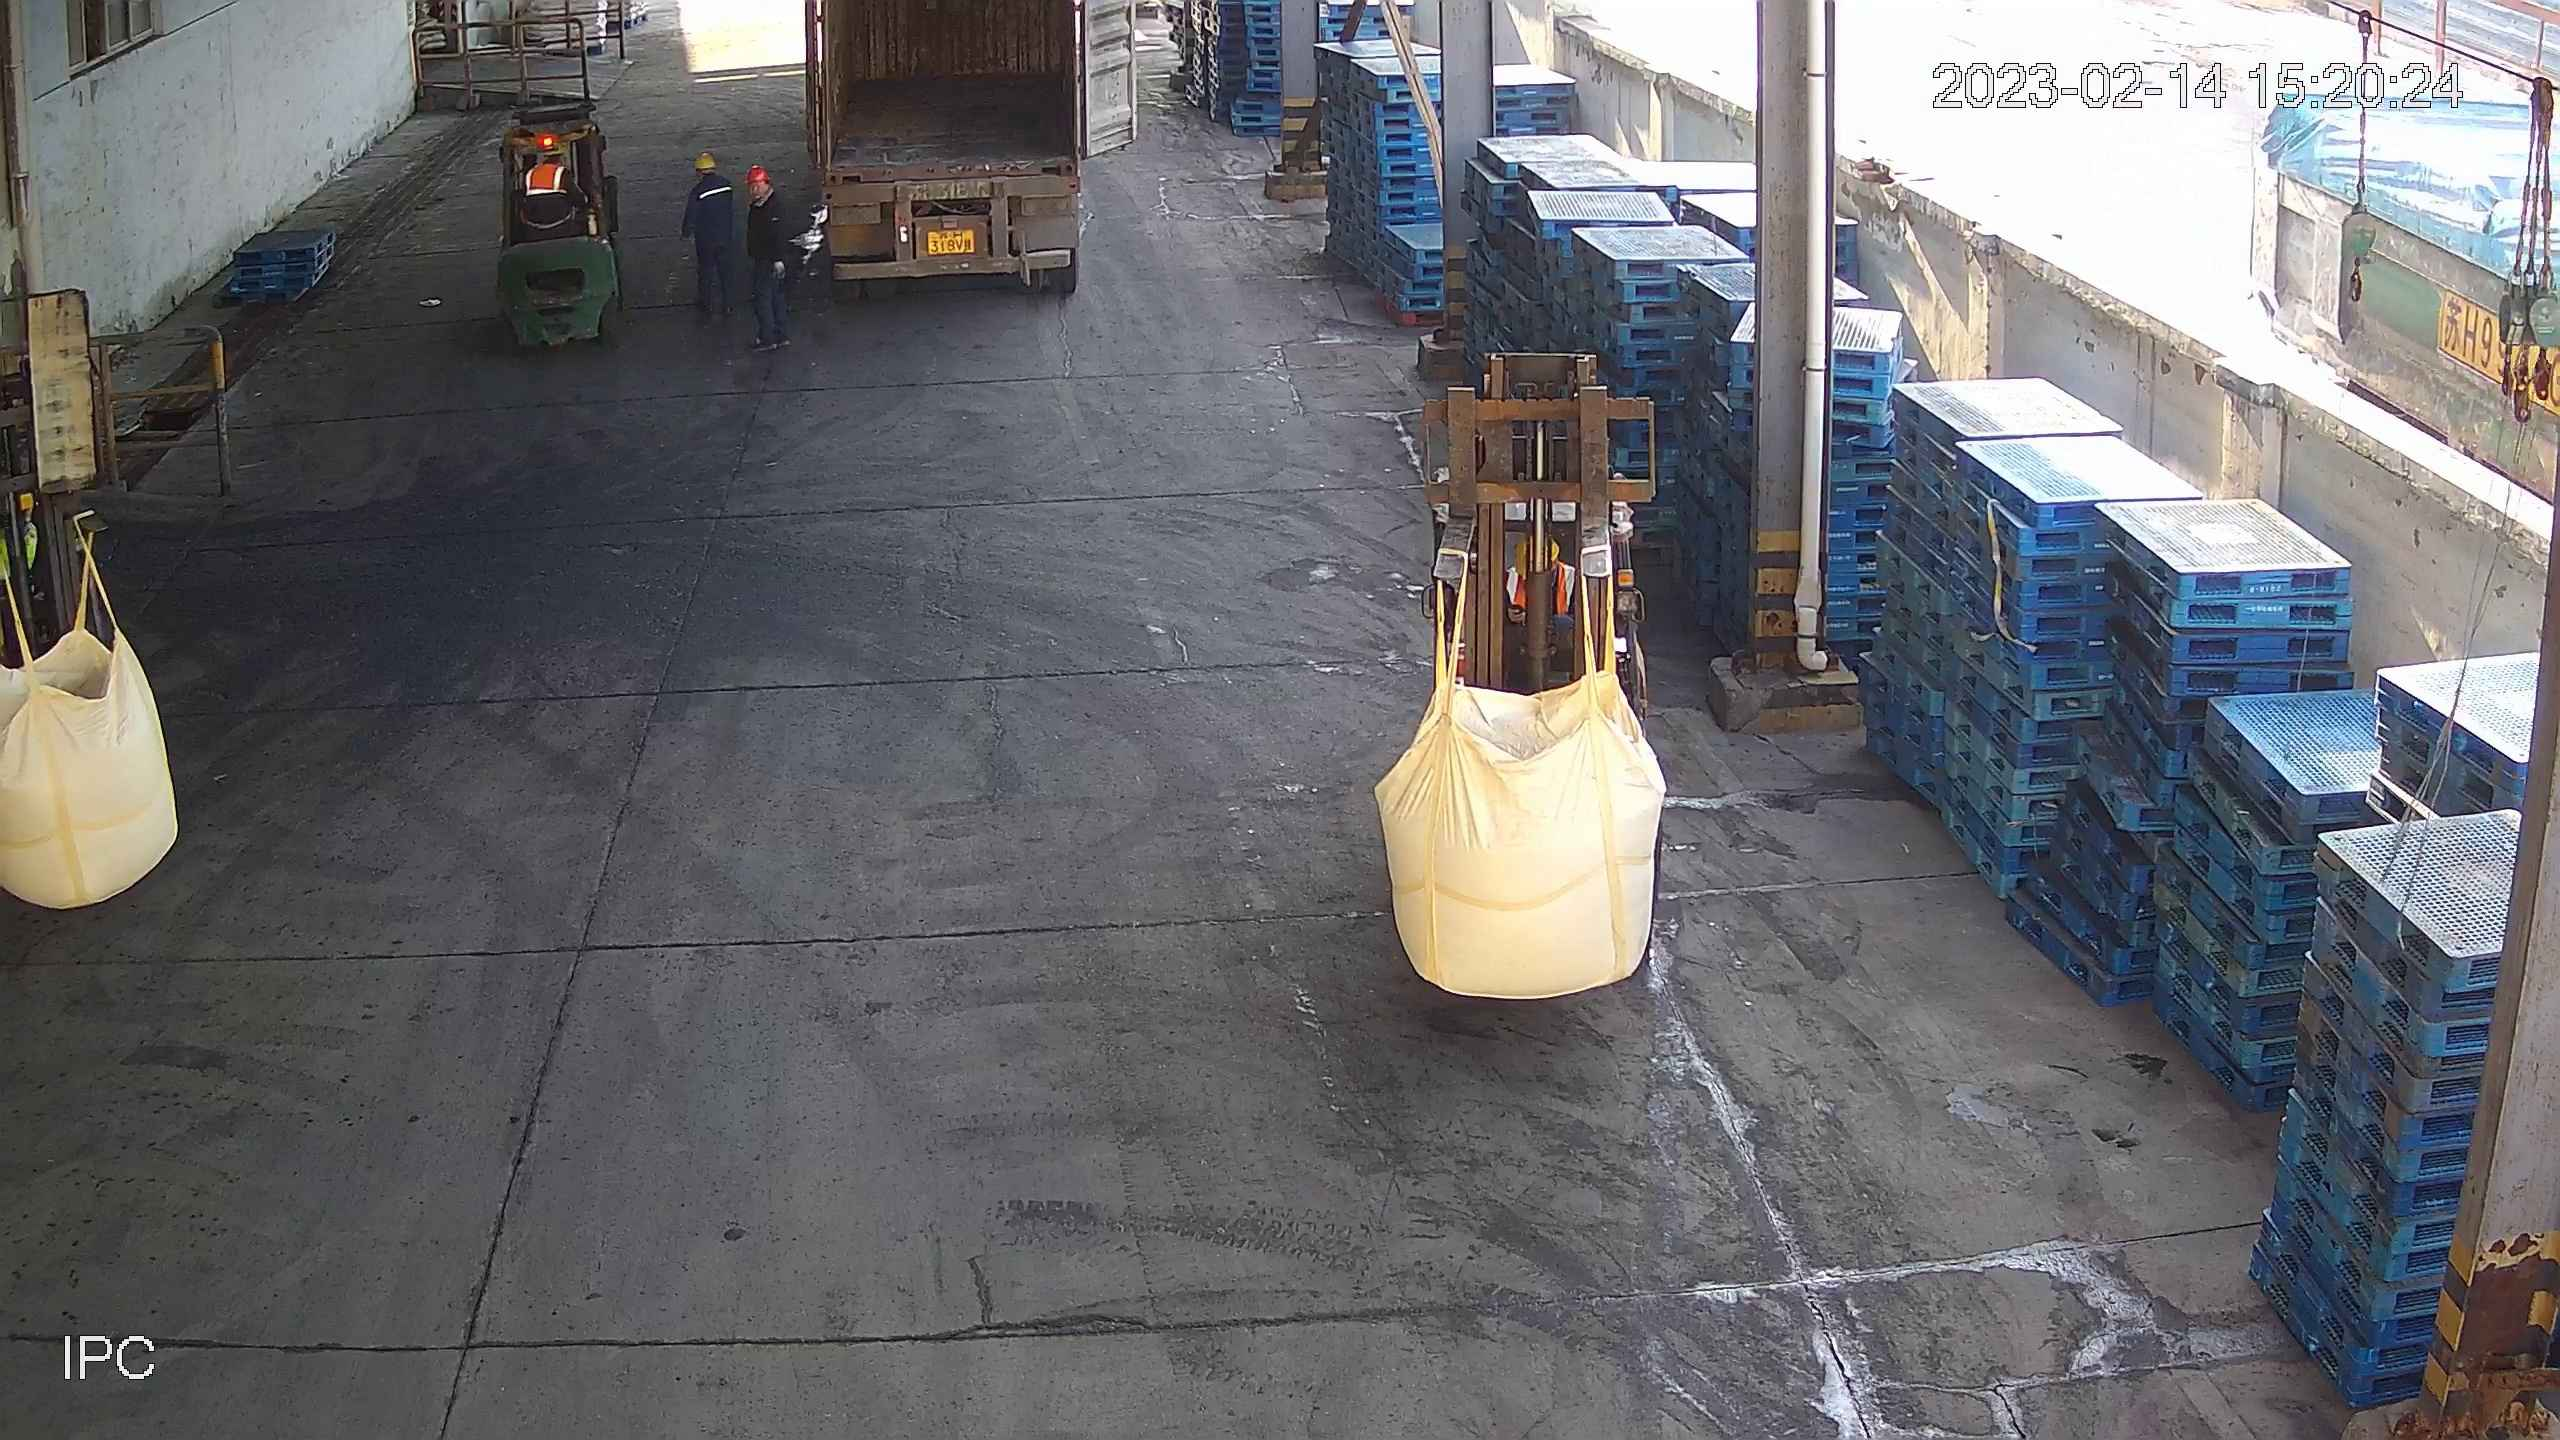head: (742, 162, 789, 216), (683, 150, 736, 196)
helmet: (741, 162, 775, 186), (692, 150, 717, 173)
people: (677, 148, 746, 323), (741, 161, 798, 355)
